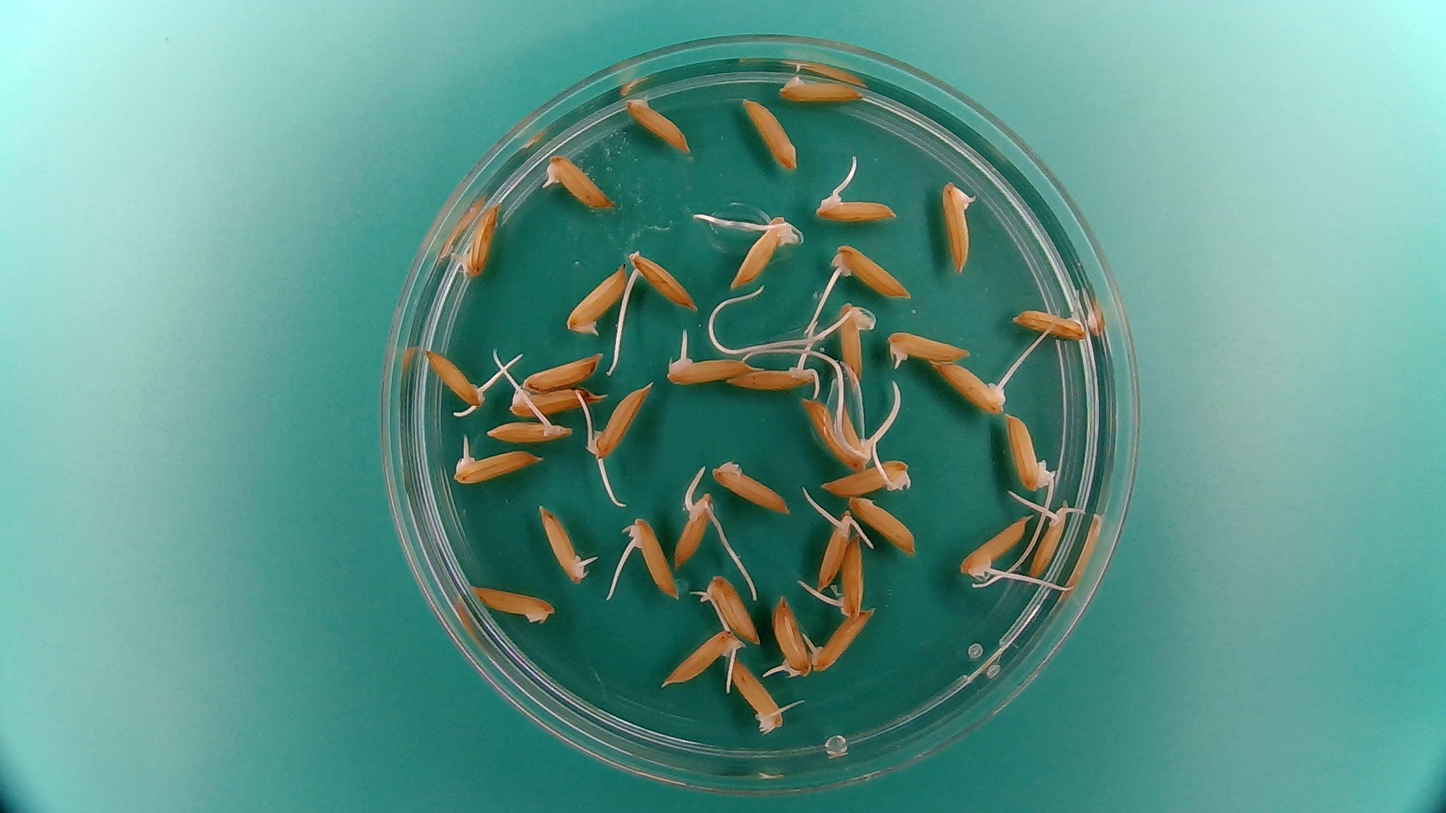no: (709, 454, 793, 516), (845, 495, 920, 558), (623, 91, 694, 156), (742, 97, 800, 172), (465, 582, 557, 626), (517, 349, 608, 392), (774, 65, 868, 106), (502, 385, 597, 418)
yes: (799, 393, 872, 471), (563, 260, 632, 338), (728, 212, 796, 288), (829, 244, 917, 300), (538, 502, 598, 584), (592, 385, 655, 463), (624, 246, 698, 312), (422, 347, 494, 412), (807, 604, 877, 670), (697, 571, 761, 643), (665, 626, 743, 685), (541, 153, 618, 212), (625, 519, 679, 600), (963, 512, 1033, 574), (449, 200, 501, 282), (933, 361, 1009, 416), (732, 658, 786, 734), (884, 327, 973, 370), (672, 491, 719, 568), (770, 592, 811, 679), (1008, 408, 1052, 489), (941, 178, 976, 277), (819, 459, 912, 496), (448, 447, 533, 486), (834, 301, 873, 384), (831, 534, 867, 618), (816, 508, 854, 587), (667, 353, 750, 387), (728, 362, 819, 393), (484, 415, 572, 446), (1009, 308, 1092, 340), (813, 193, 896, 224), (1033, 506, 1066, 579)
